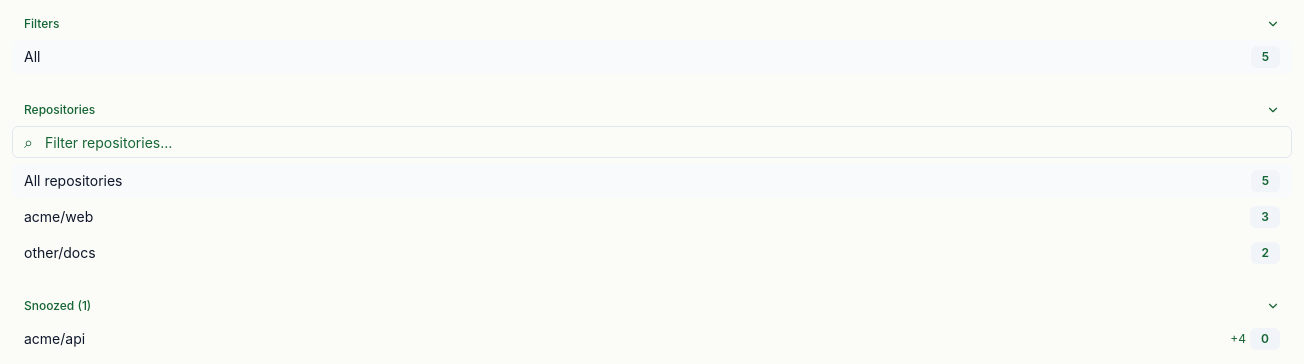
Scenario: FilterSidebar repository search › narrows the list with the same fuzzy matching as the palette
The width and height of the screenshot is (1304, 364).
Type "web" into the search field labelled "Filter repositories" at [652, 142], box left=12, top=126, right=1292, bottom=158
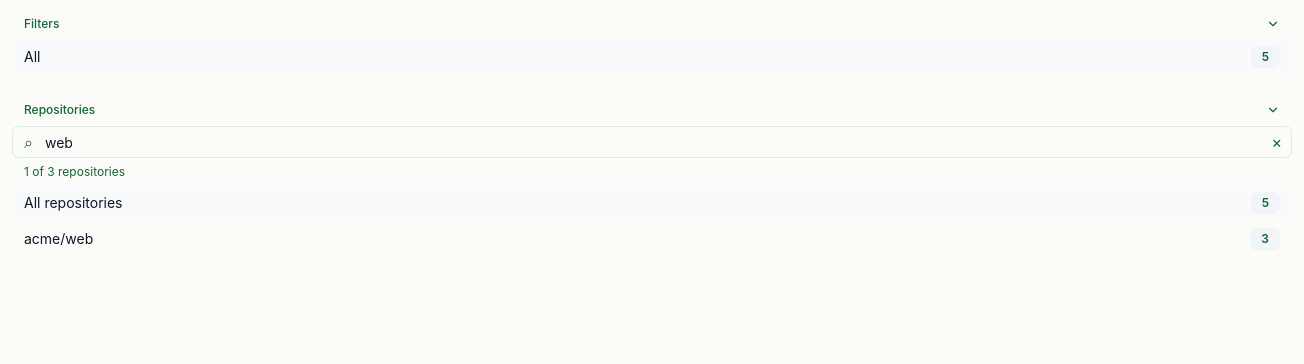
Expected: the button with aria-label "Filter by acme/web" is shown, left=12, top=222, right=1292, bottom=256
Expected: the text "Filter by other/docs" is gone
Expected: the message reads "1 of 3 repositories", left=24, top=164, right=125, bottom=179
